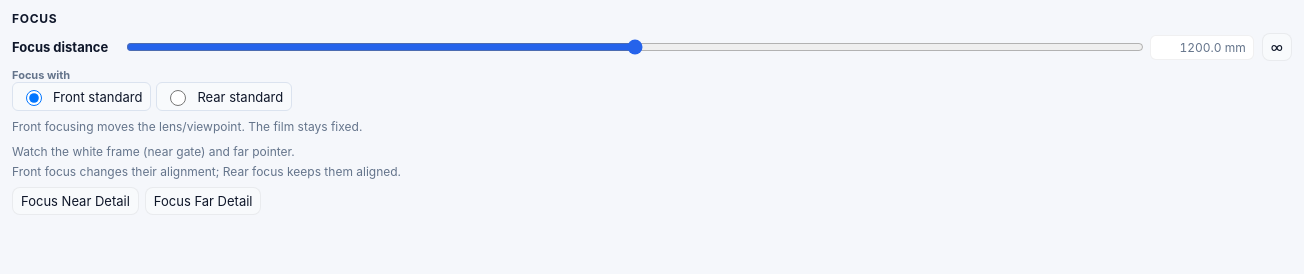
FocusControl presets for Focus Fundamentals › keeps Infinity Reset with the Focus control and preserves infinity semantics
Click the button named "Infinity Reset": (1277,47) [1262, 33, 1292, 61]
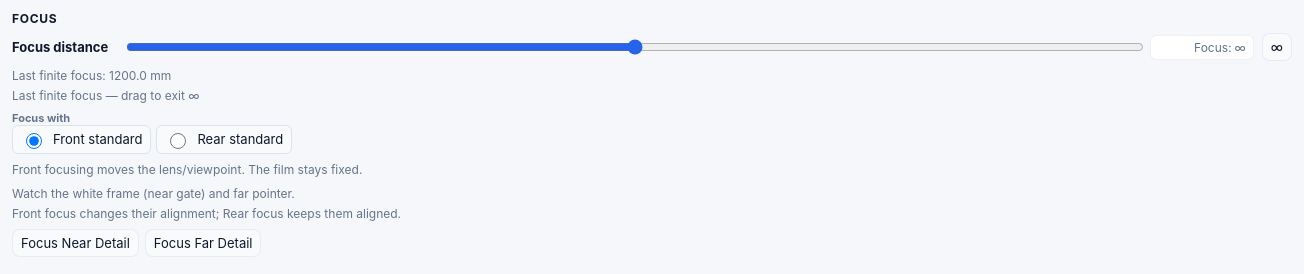
Expected: the element named "Infinity Reset" is shown, [12, 33, 1292, 61]
Expected: the text "Focus: ∞" is shown, [1150, 35, 1254, 60]
